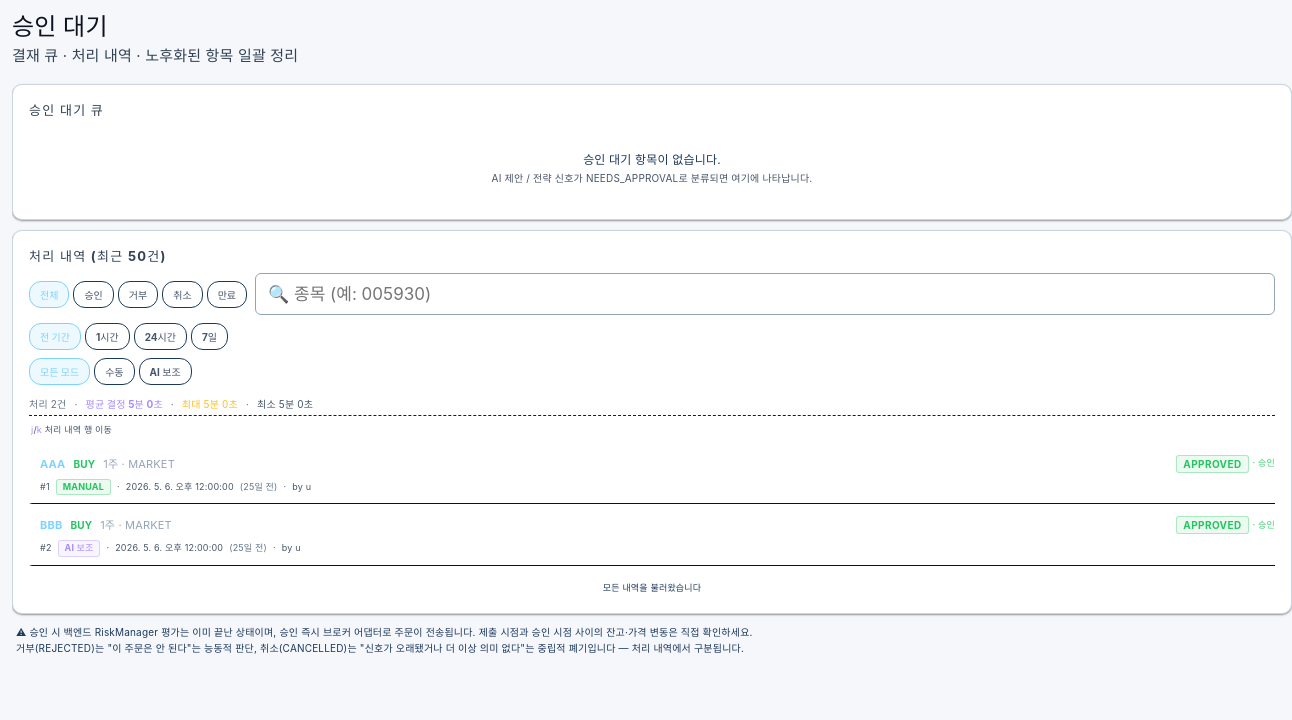
Test: <Approvals> 처리 내역 mode filter (092) › clicking AI 보조 narrows to LIVE_AI_ASSIST rows only
What coordinates should you click on to do the following:
click the radio button labelled "AI 보조"
I would click on:
 (165, 372)
Its box is 139,358 -> 192,385.
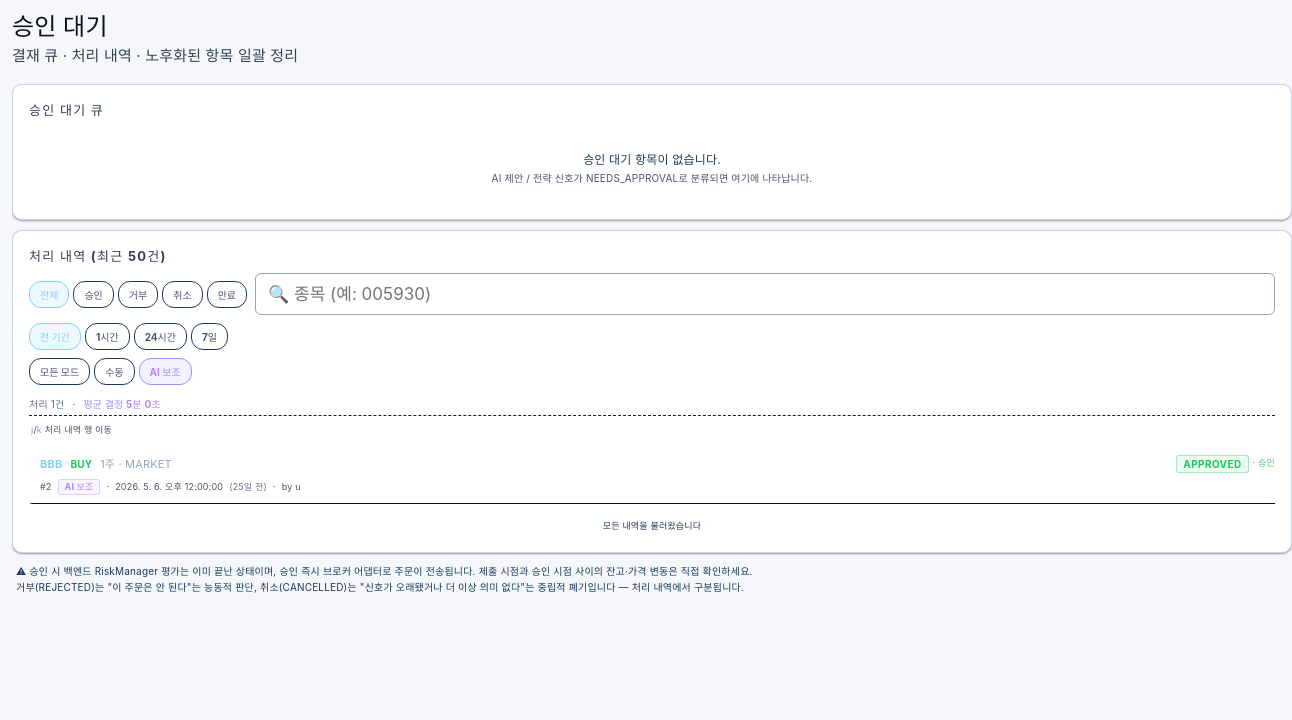
Expected: the text "BBB" is shown, 40,457 -> 62,471
Expected: the text "AAA" is gone
